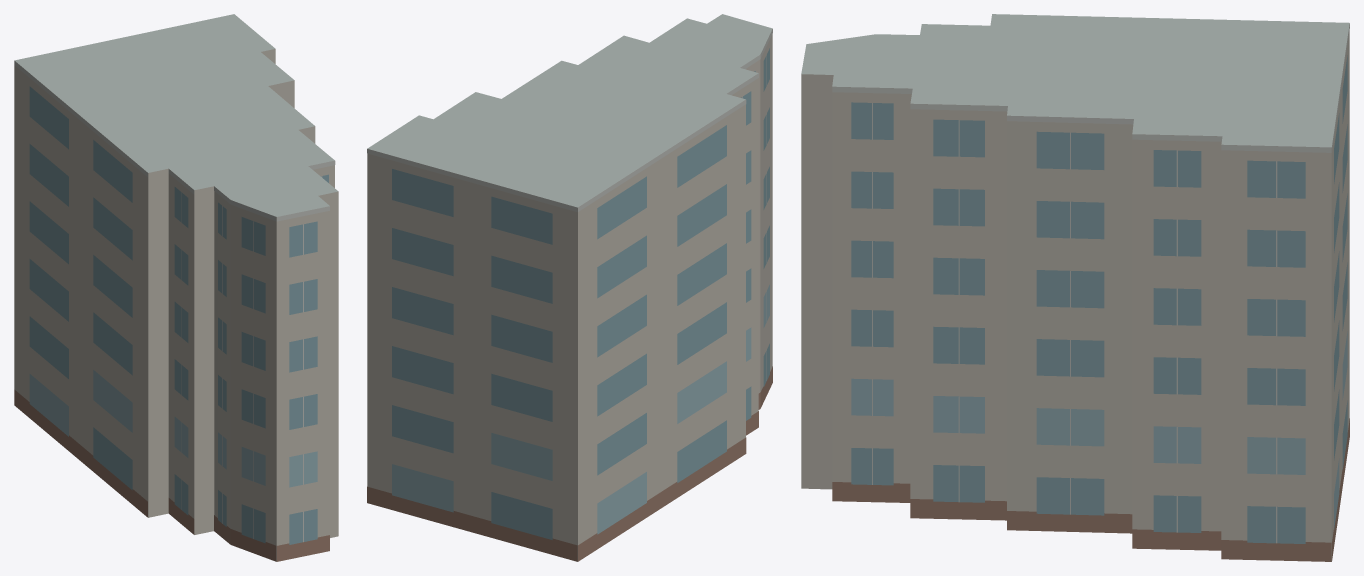
The model's file is survey-upis-32657885.glb.
3 renders of one model, left to right at view 1: azimuth 30°, elevation 25°; view 2: azimuth 150°, elevation 25°; view 3: azimuth 270°, elevation 25°, orthographic. The views are drawn at different scales.
Parts seen in each view (by area): view 1: survey-upis-32657885.tmp; view 2: survey-upis-32657885.tmp; view 3: survey-upis-32657885.tmp.
Boxes of the visible parts, bbox=[...] form: survey-upis-32657885.tmp: bbox=[14, 14, 338, 561]; survey-upis-32657885.tmp: bbox=[367, 14, 772, 561]; survey-upis-32657885.tmp: bbox=[801, 14, 1349, 561].
Bounding box in the file's own units: 12.64 × 18.3 × 21.96.
